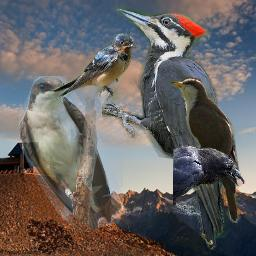Crow: (173, 145, 245, 216)
Cuckoo: (169, 77, 242, 224)
Swallow: (19, 76, 123, 232), (48, 33, 136, 107)
Woodpecker: (102, 6, 235, 250)
